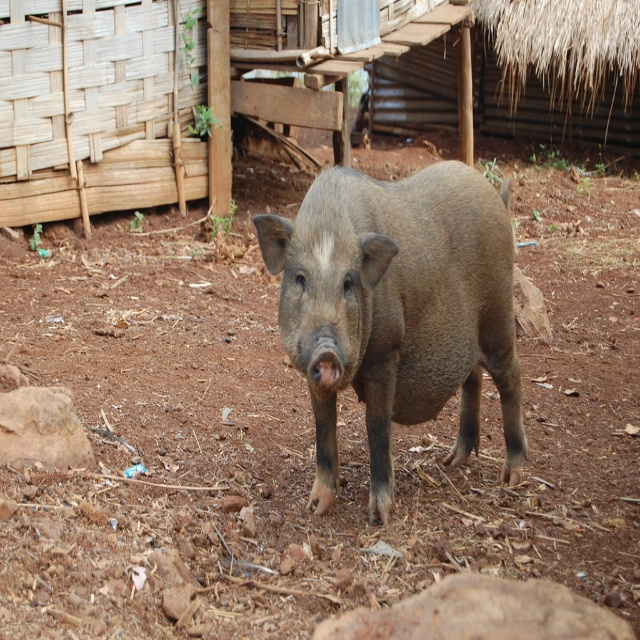Pig: (252, 158, 529, 526)
